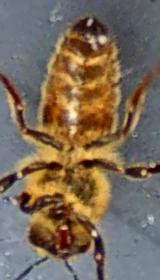varroa_mite: (38, 96, 62, 127)
